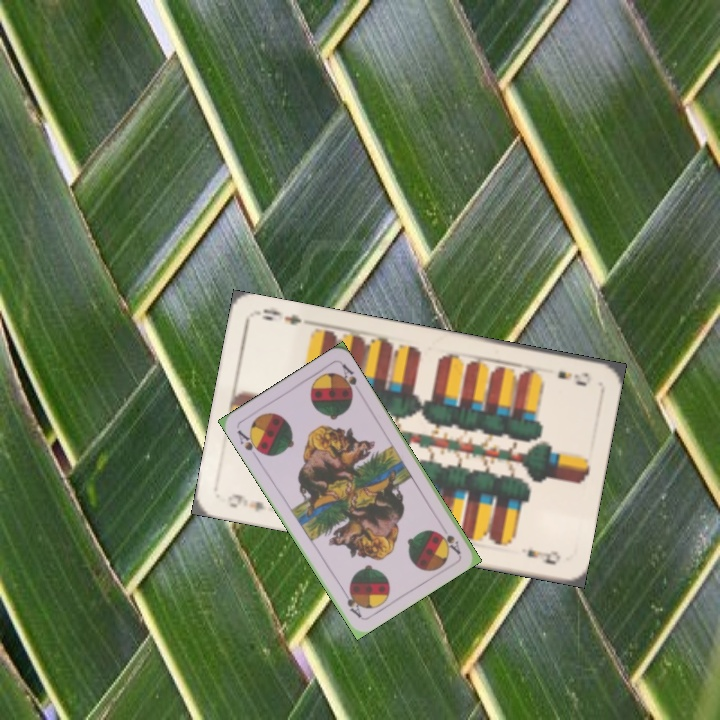E9: (223, 490, 269, 514), (553, 366, 592, 389)
SA: (233, 426, 265, 461), (436, 528, 463, 557)
